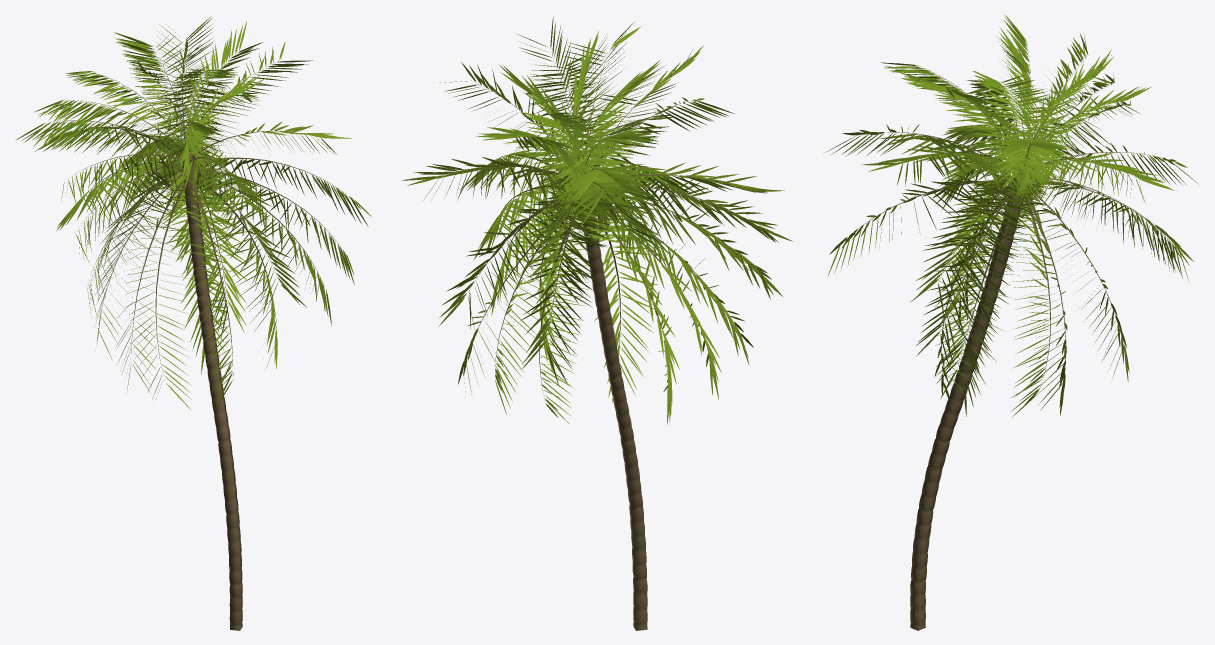
File: palm.obj
The picture shows the model from 3 angles, left to right: view 1: azimuth 30°, elevation 25°; view 2: azimuth 150°, elevation 25°; view 3: azimuth 270°, elevation 25°; orthographic projection. The views are drawn at different scales.
Visible parts, largest first — view 1: leaves_3, leaves2_4, trunk_1, stems_1_2; view 2: leaves_3, leaves2_4, trunk_1, stems_1_2; view 3: leaves_3, leaves2_4, trunk_1, stems_1_2.
Part boxes in pixels (x1=…): leaves_3: x1=20, y1=16, x2=371, y2=405; leaves2_4: x1=15, y1=19, x2=362, y2=409; trunk_1: x1=182, y1=151, x2=242, y2=630; stems_1_2: x1=57, y1=51, x2=345, y2=375; leaves_3: x1=401, y1=20, x2=788, y2=424; leaves2_4: x1=413, y1=16, x2=792, y2=419; trunk_1: x1=580, y1=210, x2=647, y2=630; stems_1_2: x1=456, y1=53, x2=756, y2=395; leaves_3: x1=828, y1=15, x2=1193, y2=416; leaves2_4: x1=827, y1=17, x2=1197, y2=417; trunk_1: x1=910, y1=167, x2=1028, y2=630; stems_1_2: x1=847, y1=56, x2=1175, y2=383.
Bounding box in the file's own units: 279 × 500 × 288.
